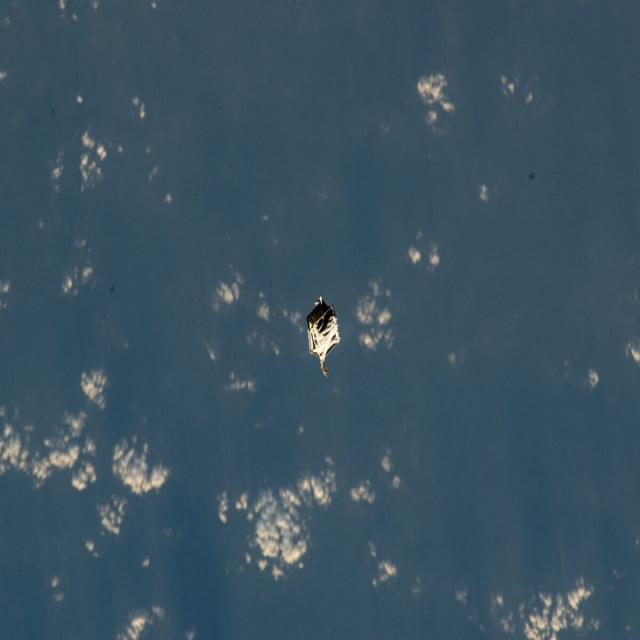medium_debris: (292, 283, 348, 395)
